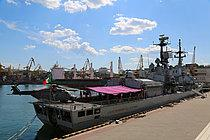MIL_Ship: (30, 34, 203, 121)
